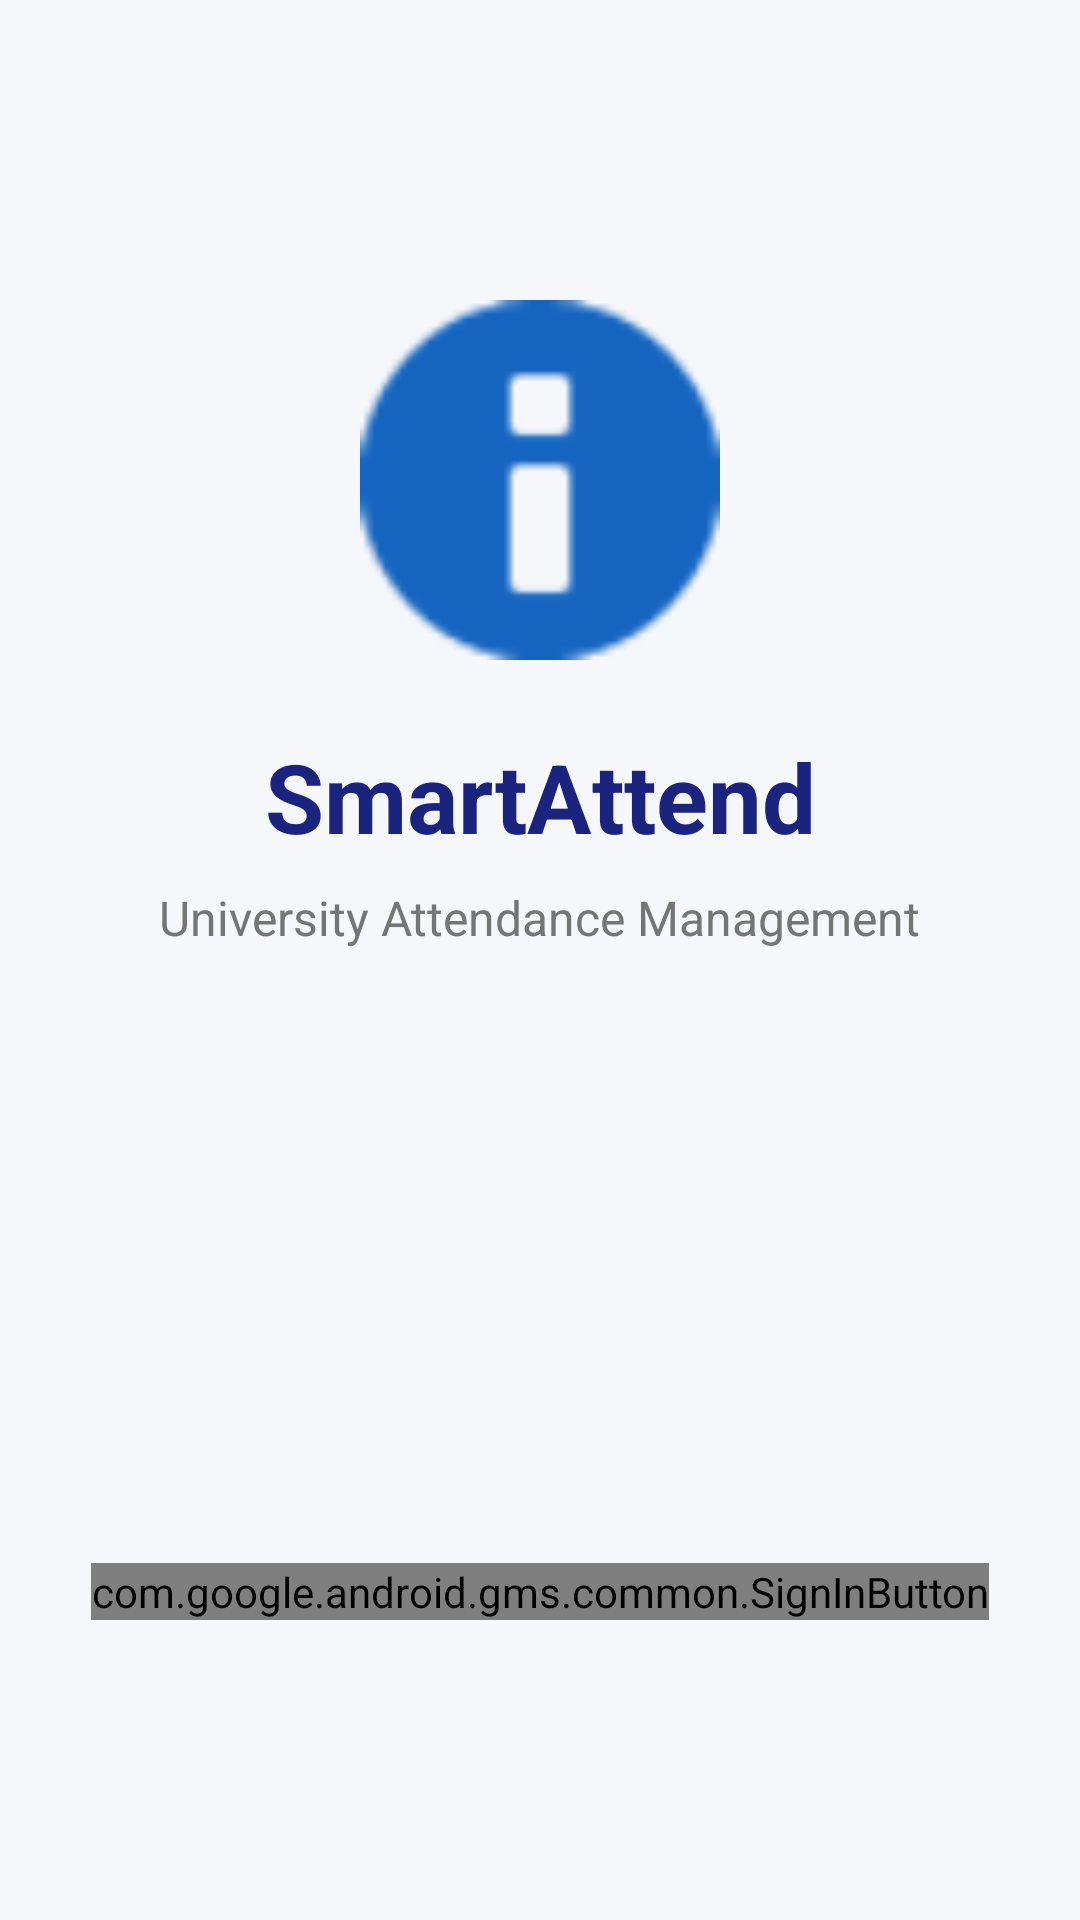

Screen size 1080 x 1920. Icon name, then its center in pixels as [x,y]:
info: [540,480]
